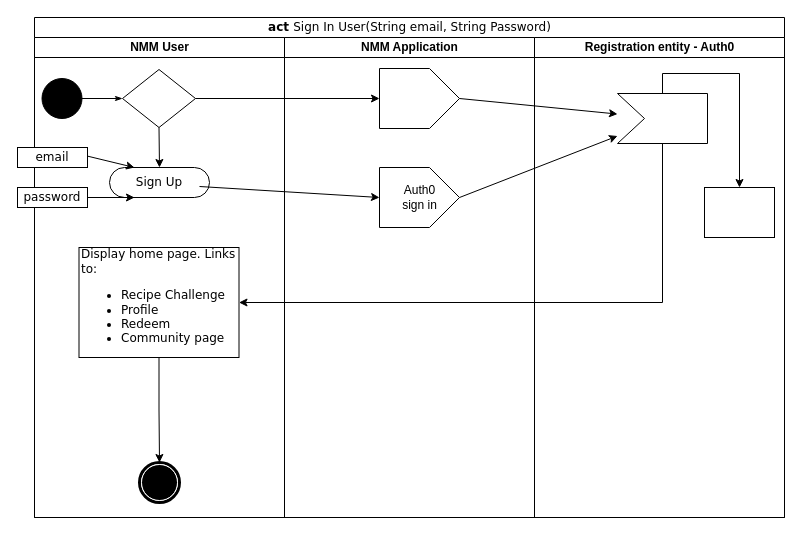
The diagram is 802 pixels wide and 535 high, and some of its shapes have lost their labels. Here are the shapes that lost their labels. From the top down, the centre of each, then its label:
At (159,98): "Sign in method".
At (419,98): "Facebook sign in".
At (662,118): "Sign in user".
At (739,212): "Update sign-in count".
